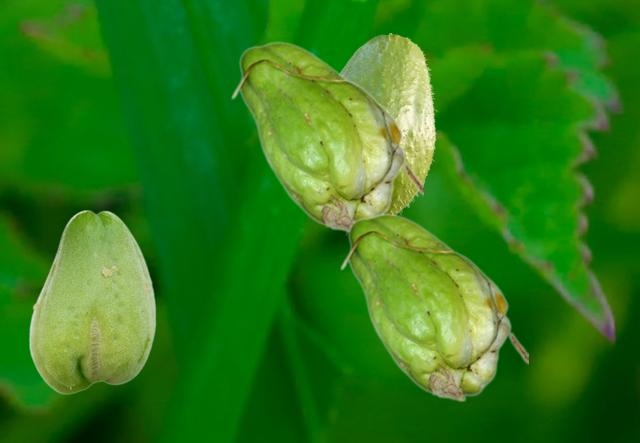sayote: (230, 41, 422, 233), (339, 213, 527, 401), (28, 209, 155, 393), (340, 33, 436, 234)
